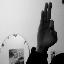f: (36, 2, 58, 45)
